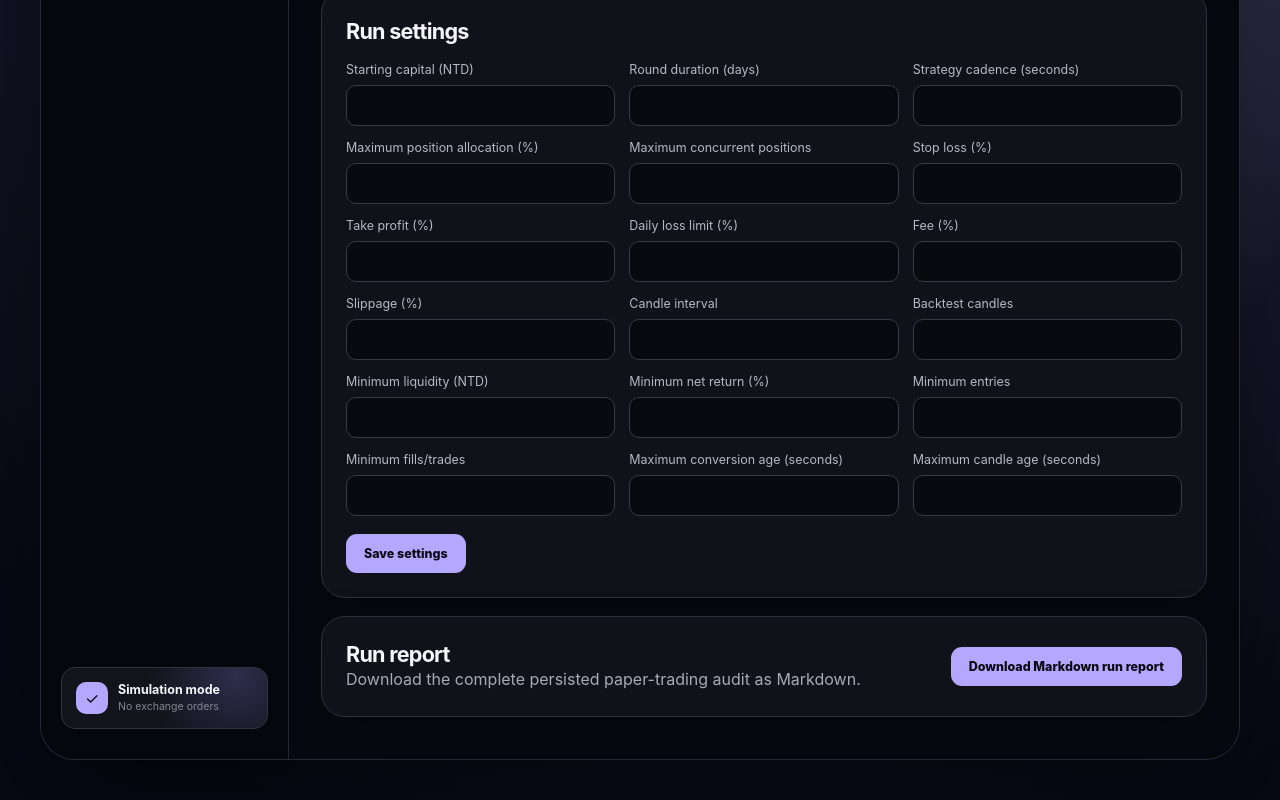
Test: authenticated operator can download the complete Markdown run report with status feedback
(page scrolled)
Click the button "Download Markdown run report" at (1066, 666), box [951, 647, 1182, 686]
(page scrolled)
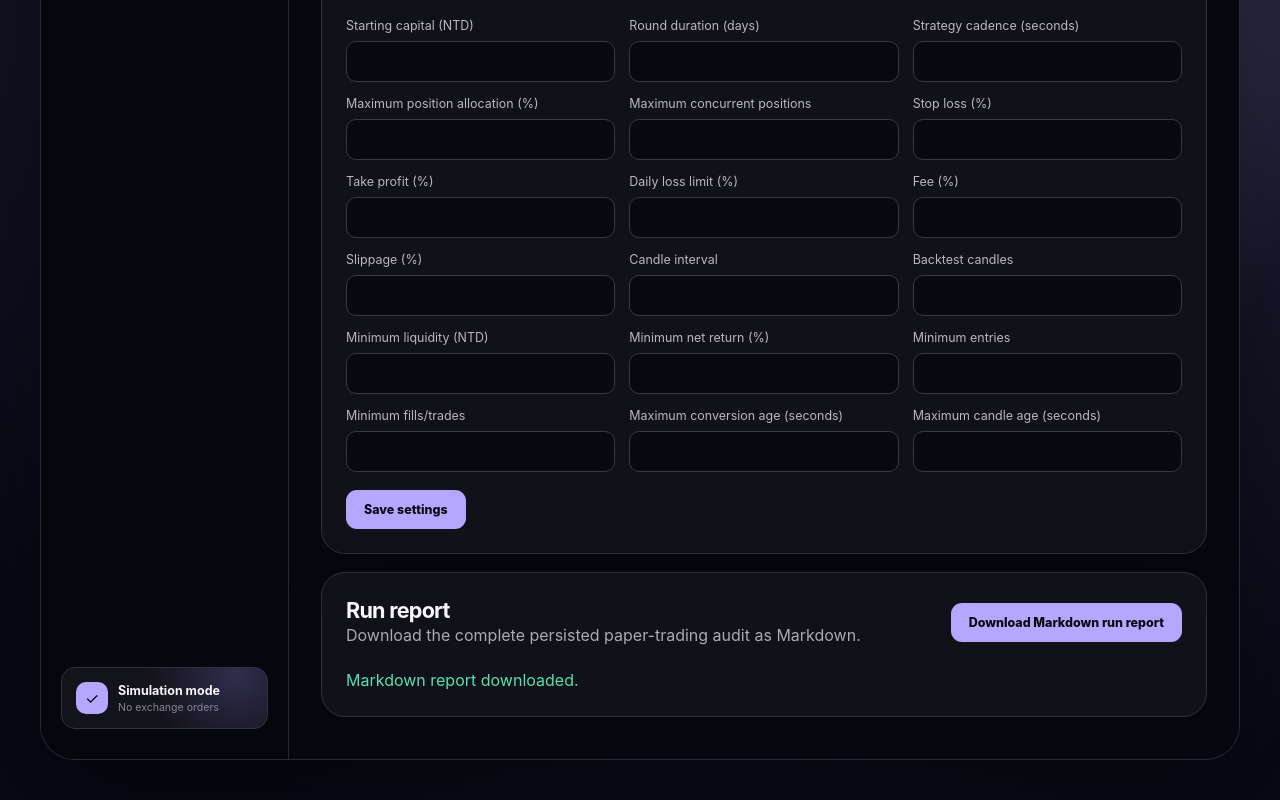
expect the message reads "Markdown report downloaded.": met, box [346, 670, 579, 690]
